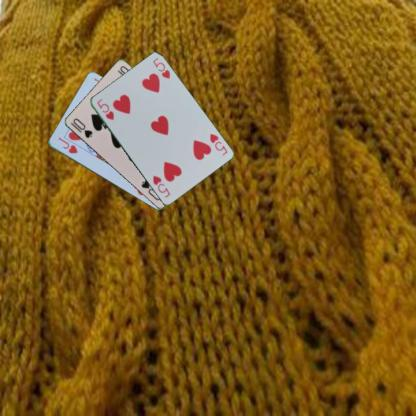10s: (70, 116, 94, 139)
5h: (94, 96, 115, 122), (207, 131, 228, 157)
Jh: (56, 134, 78, 154)
